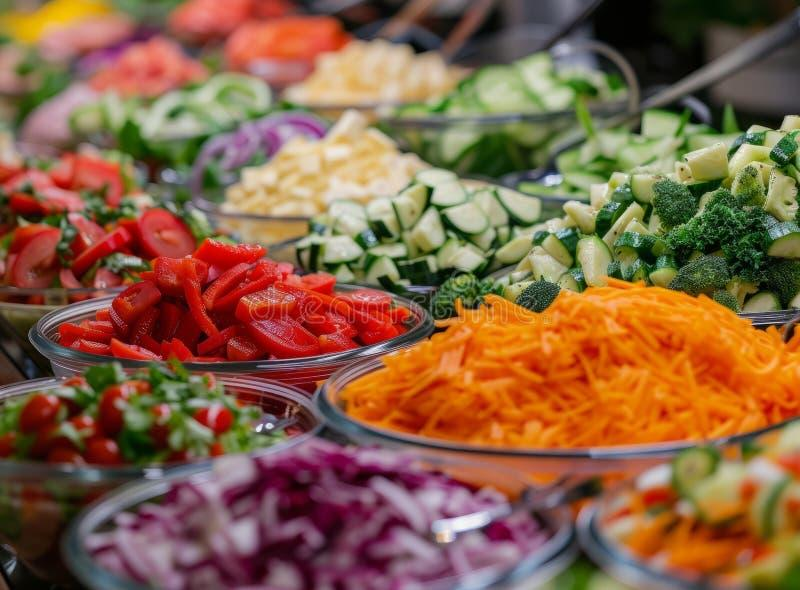bell pepper: (87, 200, 408, 364)
carrot: (414, 261, 780, 469)
